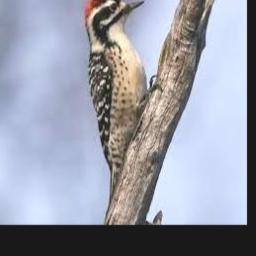Woodpecker: (82, 0, 162, 201)
